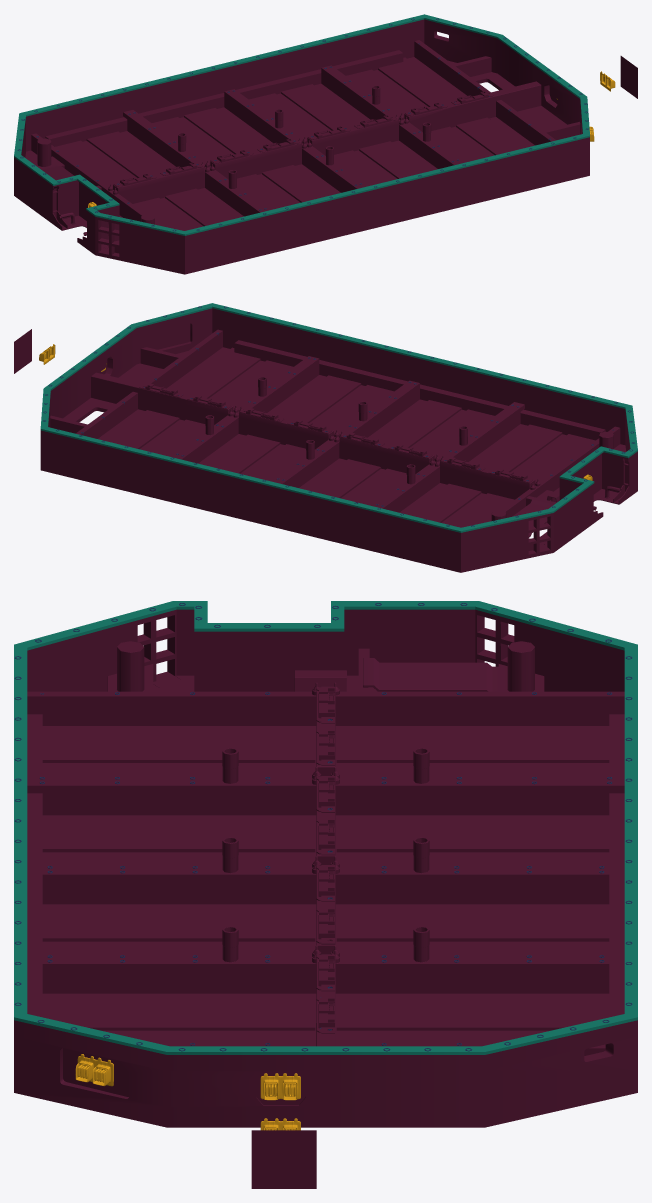
The model's file is CFT_VR_Jeong last fbx5.fbx.
3 renders of one model, top to bottom at view 1: azimuth 30°, elevation 25°; view 2: azimuth 150°, elevation 25°; view 3: azimuth 270°, elevation 25°, orthographic. The views are drawn at different scales.
Parts seen in each view (by area): view 1: Plane.002, Plane.003; view 2: Plane.002, Plane.003; view 3: Plane.002, Plane.003.
Boxes of the visible parts, left/top/right/bottom form: Plane.002: left=14, top=14, right=594, bottom=274; Plane.003: left=620, top=56, right=637, bottom=98; Plane.002: left=40, top=303, right=637, bottom=572; Plane.003: left=14, top=329, right=31, bottom=373; Plane.002: left=14, top=601, right=637, bottom=1127; Plane.003: left=251, top=1130, right=316, bottom=1188.
Size of the model in its own units: 225 by 15.36 by 114.
